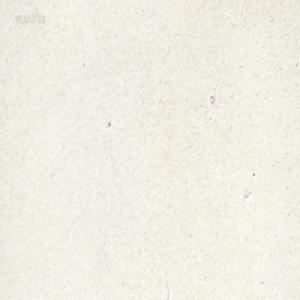Washer: (209, 93, 214, 103)
